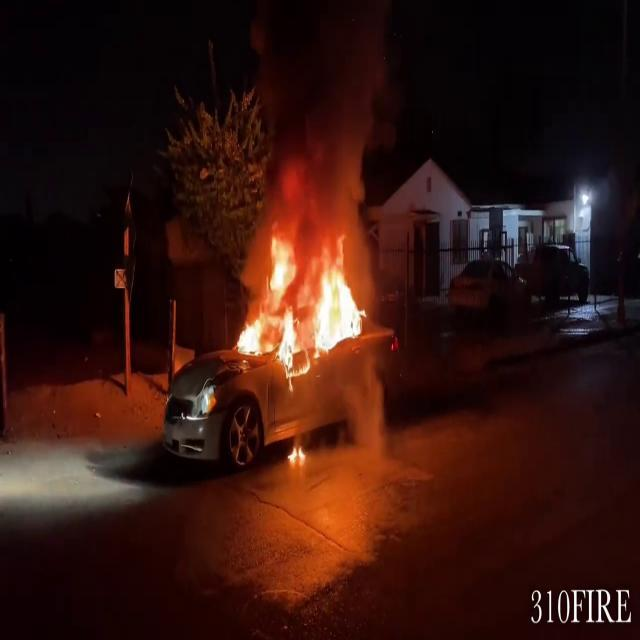Fire: (232, 226, 371, 375), (285, 436, 307, 469)
Smoke: (254, 2, 398, 234)
